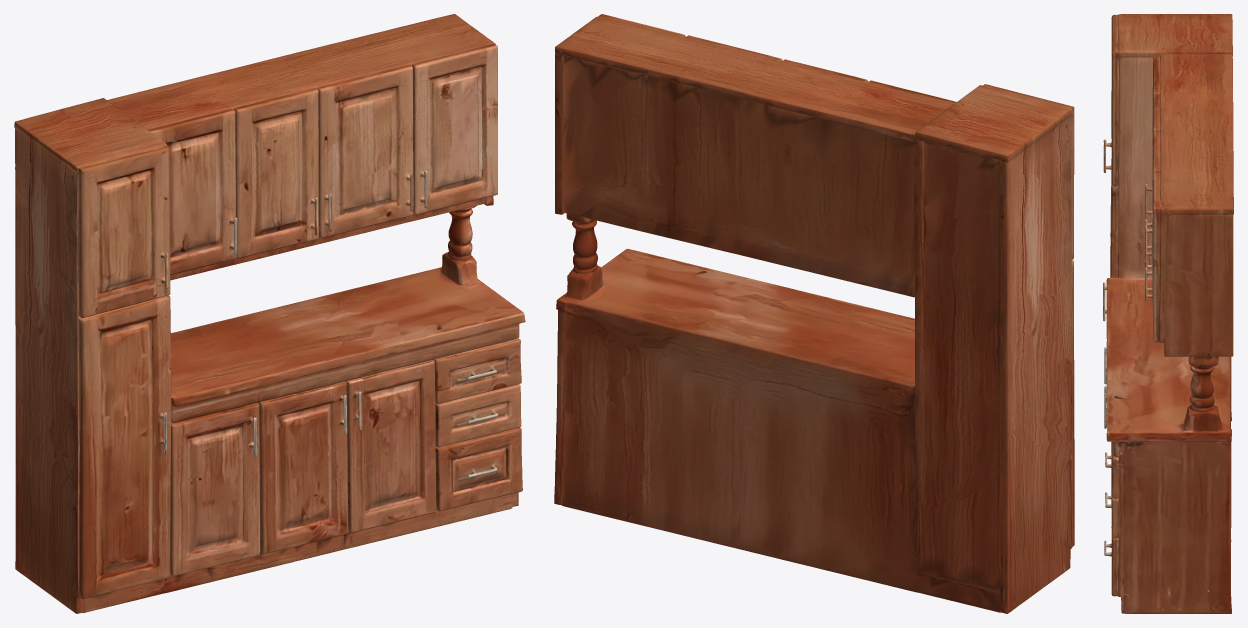
Rendered from web.glb.
3 renders of one model, left to right at view 1: azimuth 30°, elevation 25°; view 2: azimuth 150°, elevation 25°; view 3: azimuth 270°, elevation 25°, orthographic. The views are drawn at different scales.
Parts seen in each view (by area): view 1: model; view 2: model; view 3: model.
Boxes of the visible parts, box(x1,y1,x2,y2) form: model: box(14, 14, 525, 613); model: box(554, 14, 1074, 613); model: box(1103, 14, 1233, 613).
Size of the model in its own units: 2 by 1.94 by 0.565.
Materials: 1 (1 with a texture image).
